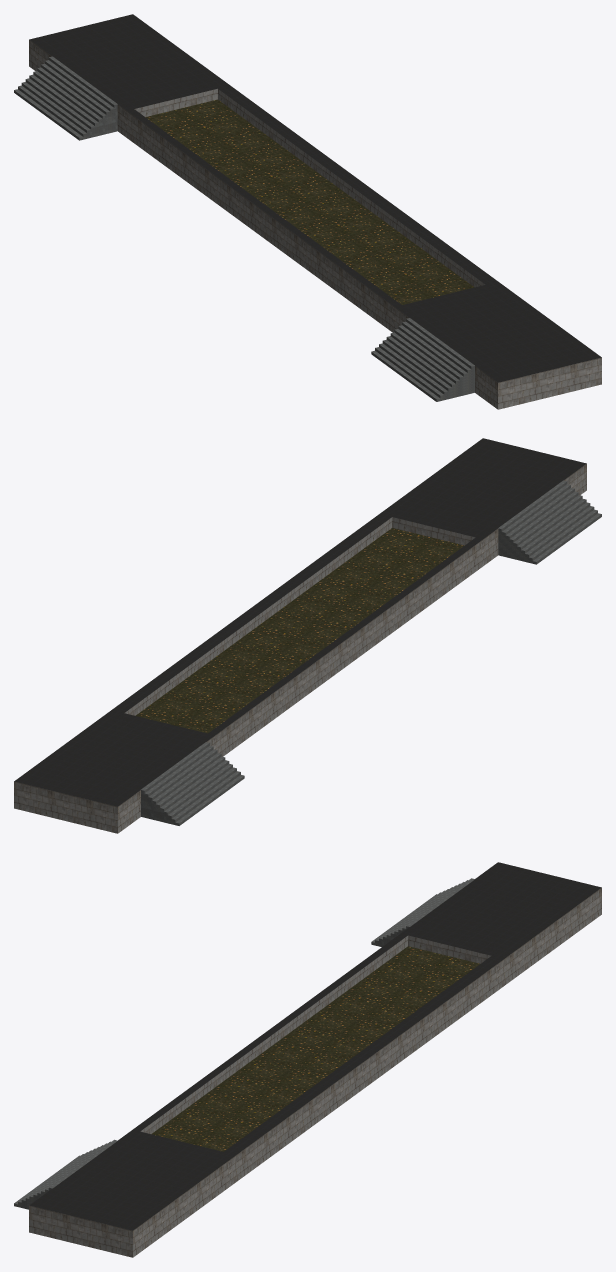
File: enter.gltf
The picture shows the model from 3 angles, top to bottom: view 1: azimuth 30°, elevation 25°; view 2: azimuth 150°, elevation 25°; view 3: azimuth 330°, elevation 25°; orthographic projection.
Parts seen in each view (by area): view 1: Enter_StaticMeshComponent0; view 2: Enter_StaticMeshComponent0; view 3: Enter_StaticMeshComponent0.
Part boxes in pixels (x1=…): Enter_StaticMeshComponent0: x1=14, y1=14, x2=601, y2=409; Enter_StaticMeshComponent0: x1=14, y1=438, x2=601, y2=833; Enter_StaticMeshComponent0: x1=14, y1=862, x2=601, y2=1257.
Size of the model in its own units: 11.03 by 2 by 63.02.
Materials: 5 (5 with a texture image).
